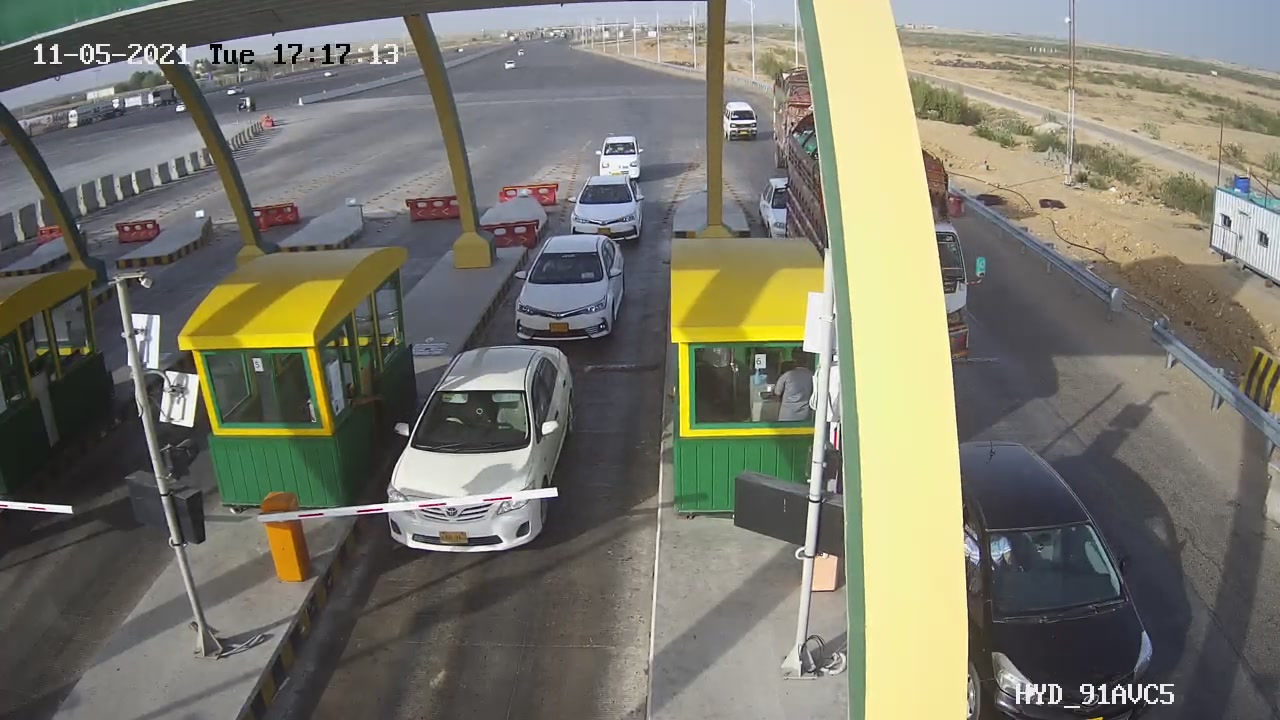F1: (369, 333, 600, 566), (498, 220, 642, 359)
